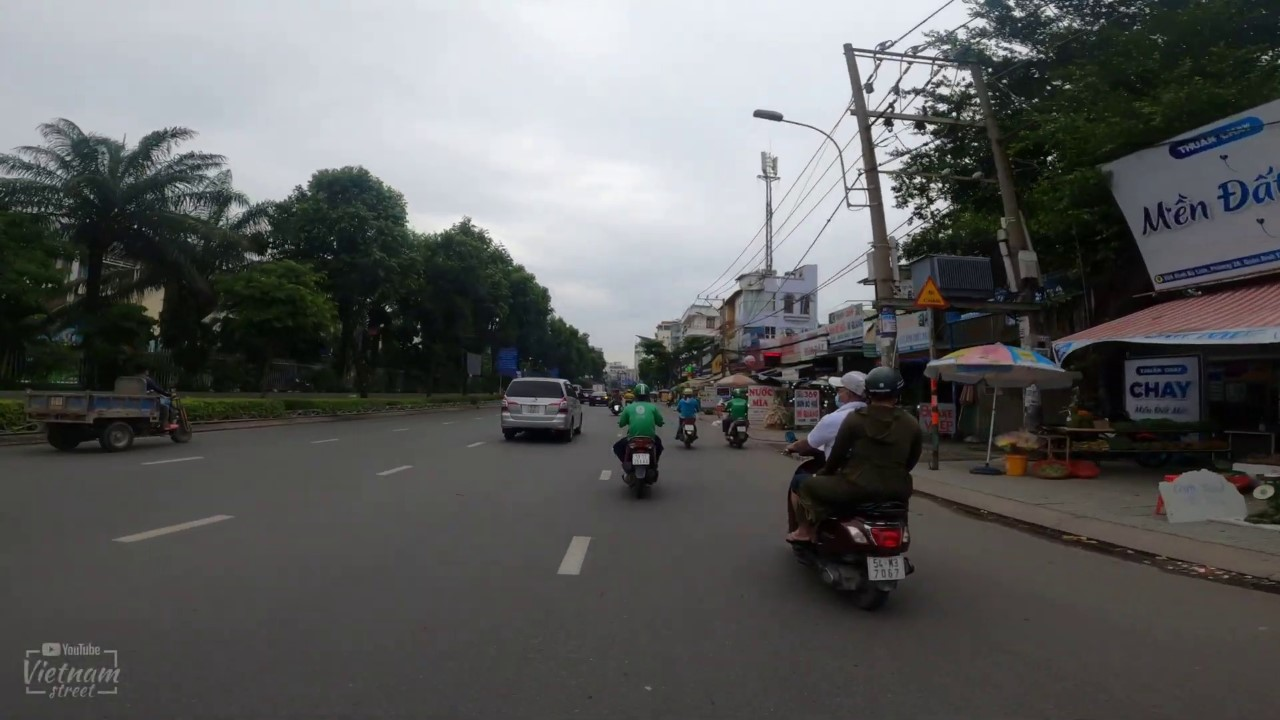di_cham: (912, 275, 950, 308)
